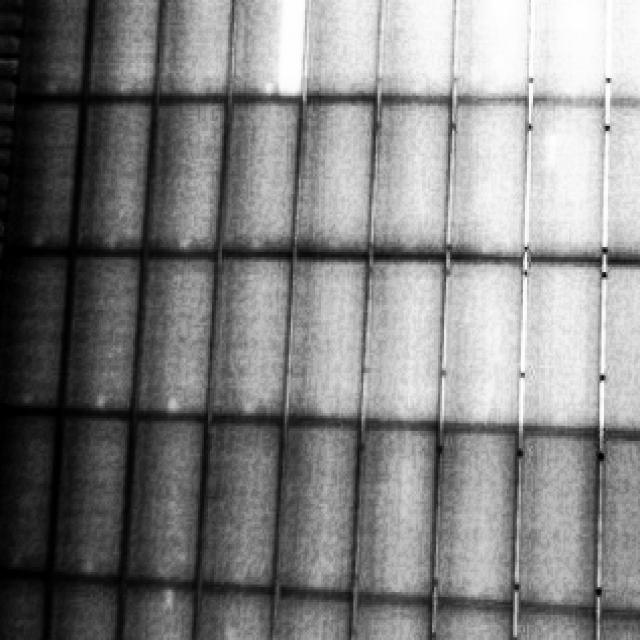Hotspots: (276, 0, 309, 96), (544, 130, 564, 170), (568, 1, 588, 30), (240, 393, 258, 420), (177, 230, 197, 254), (29, 230, 48, 254), (82, 554, 100, 578), (104, 226, 117, 254), (490, 0, 510, 18), (94, 390, 111, 411), (167, 390, 181, 414), (160, 584, 175, 605), (261, 78, 278, 95)
PV-modules: (429, 424, 516, 607), (516, 427, 601, 612), (198, 416, 285, 592), (360, 422, 444, 601), (121, 414, 208, 586), (274, 418, 356, 596), (209, 257, 294, 421), (441, 259, 524, 426), (522, 261, 604, 430), (56, 411, 136, 583), (58, 253, 140, 419), (132, 256, 214, 421), (365, 259, 446, 426), (286, 258, 368, 421), (221, 102, 305, 259), (140, 101, 223, 259), (446, 102, 528, 261), (1, 101, 84, 258), (372, 101, 452, 261), (527, 105, 608, 263), (299, 102, 380, 260), (76, 101, 153, 259), (0, 252, 69, 416), (0, 408, 58, 577), (302, 0, 388, 101), (531, 0, 609, 108), (450, 0, 531, 103), (10, 0, 91, 103), (230, 0, 311, 101), (84, 0, 163, 103), (151, 0, 230, 103), (380, 0, 456, 101), (597, 261, 640, 433), (603, 430, 640, 617), (601, 105, 640, 264), (38, 577, 117, 640), (113, 582, 196, 640), (196, 587, 280, 640), (266, 589, 351, 640), (353, 592, 442, 640), (603, 0, 640, 108), (432, 602, 519, 640), (512, 607, 600, 640), (593, 612, 640, 639)
